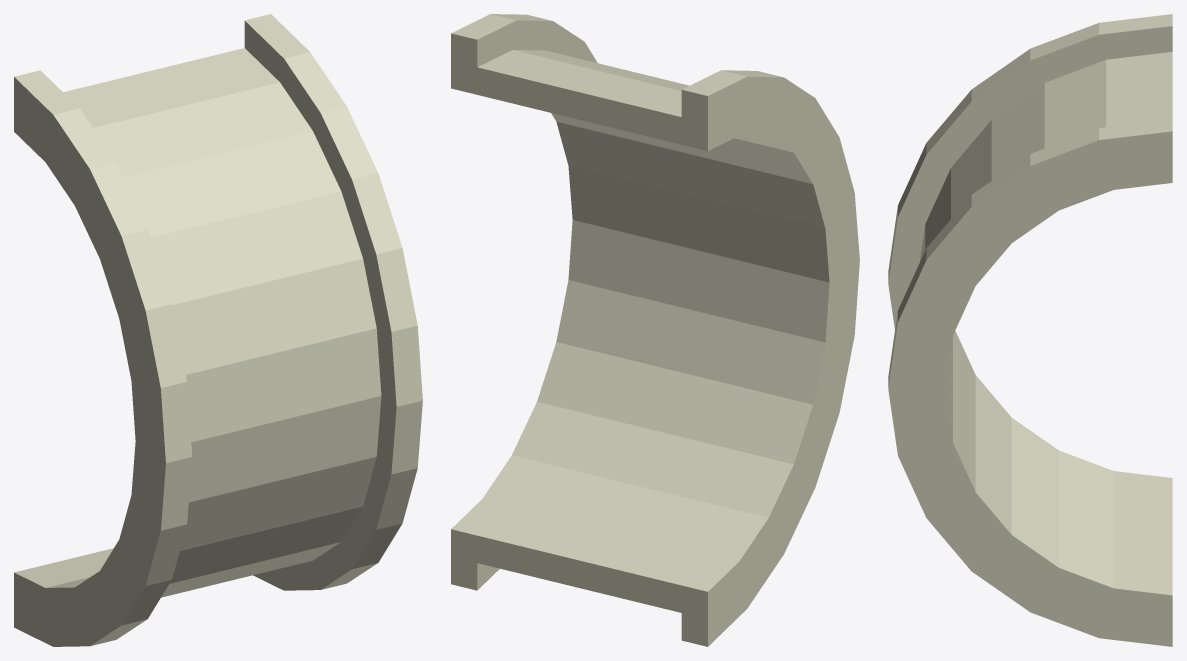
Rendered from section_259.obj.
3 views of the same model, side by side, from view 1: azimuth 30°, elevation 25°; view 2: azimuth 150°, elevation 25°; view 3: azimuth 270°, elevation 25° (orthographic). The views are drawn at different scales.
Bounding box in the file's own units: 9.76 × 20 × 10.
